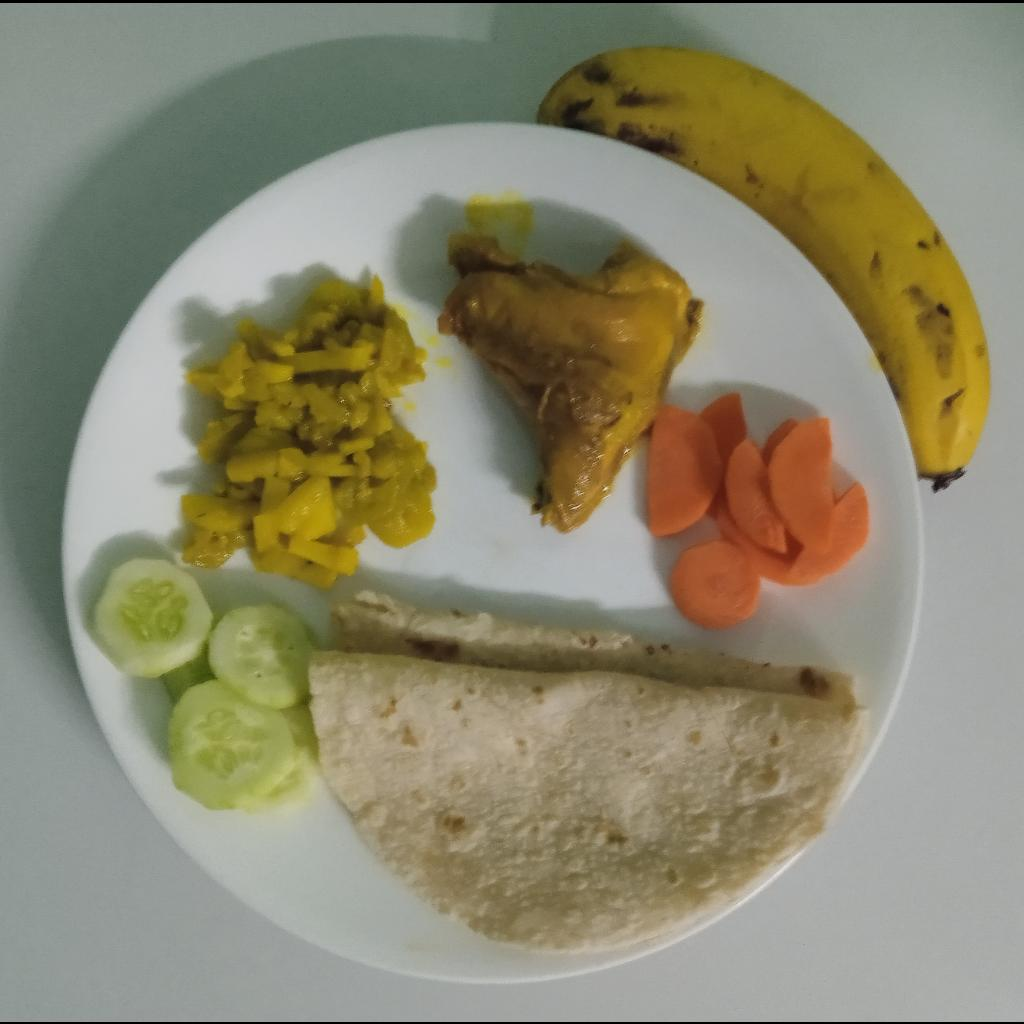banana: (540, 43, 993, 486)
carrot: (646, 389, 871, 626)
chicken: (439, 230, 711, 534)
cucumber: (90, 560, 324, 810)
lau: (180, 272, 442, 587)
ruti: (306, 589, 867, 951)
